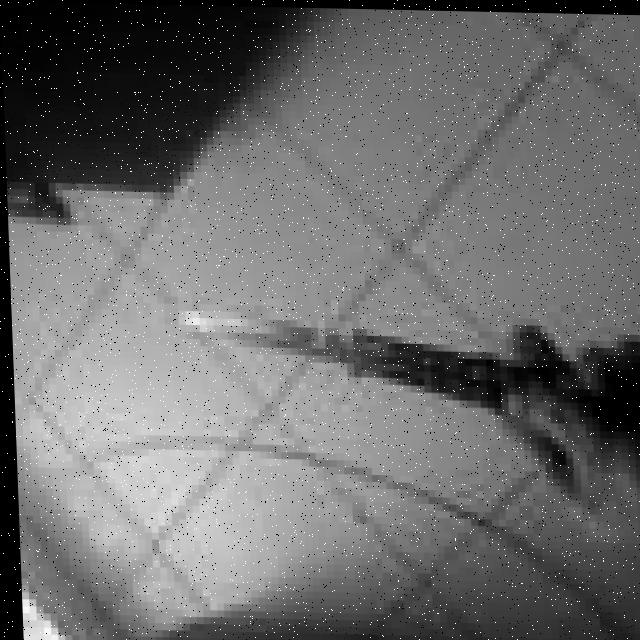knife: (169, 305, 503, 413)
